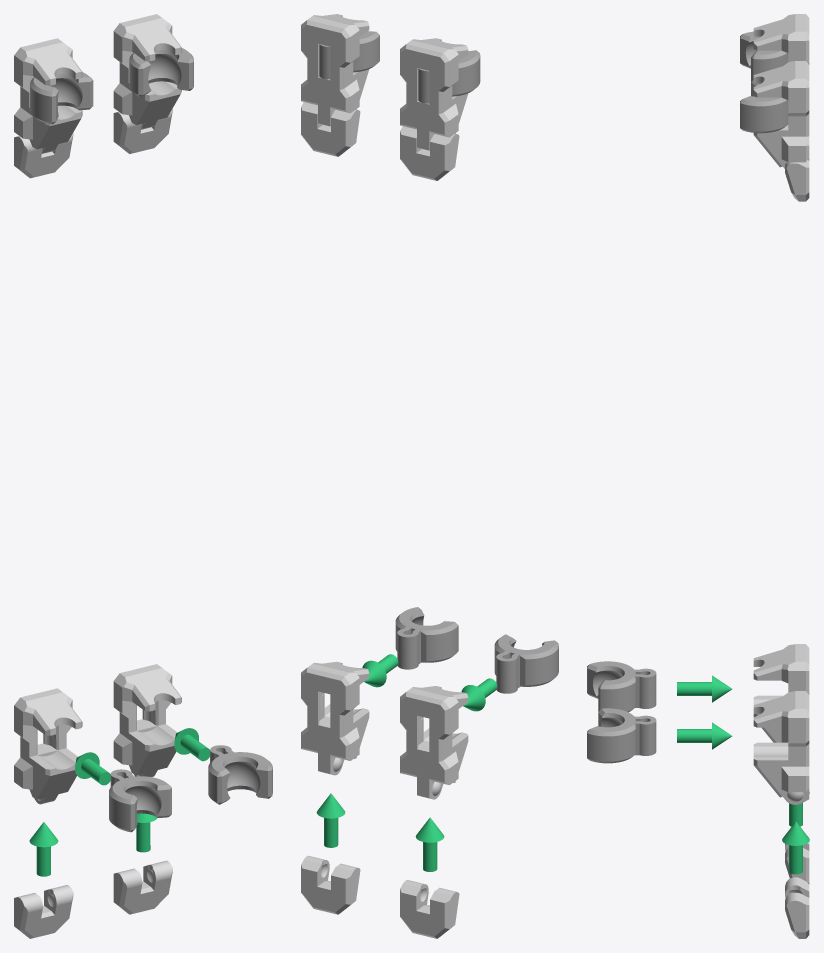
The model's file is feet.glb.
3 views of the same model, side by side, from view 1: azimuth 30°, elevation 25°; view 2: azimuth 150°, elevation 25°; view 3: azimuth 270°, elevation 25° (orthographic). The views are drawn at different scales.
Visible parts, largest first — view 1: Body1.046, Body1.044, Body1.040, Body1.042, Body2.007, Body2.006, Body1.045, Body1.047, Body2.005, Body2.004, Body1.041, Body1.043 (+4 smaller); view 2: Body1.044, Body1.046, Body1.042, Body1.040, Body2.006, Body2.007, Body1.047, Body1.045, Body1.041, Body1.043, Body2.005, Body2.004 (+4 smaller); view 3: Body1.044, Body1.040, Body2.006, Body2.007, Body1.046, Body1.042, Body2.004, Body1.045, Body2.005, Body1.041, Arrow (2), Arrow (1).001 (+1 smaller).
Boxes of the visible parts, x1=… form: Body1.046: x1=14, y1=688, x2=82, y2=804; Body1.044: x1=113, y1=664, x2=181, y2=776; Body1.040: x1=113, y1=14, x2=181, y2=129; Body1.042: x1=14, y1=38, x2=82, y2=153; Body2.007: x1=109, y1=769, x2=171, y2=832; Body2.006: x1=208, y1=745, x2=272, y2=804; Body1.045: x1=113, y1=860, x2=172, y2=914; Body1.047: x1=14, y1=885, x2=73, y2=938; Body2.005: x1=30, y1=72, x2=93, y2=124; Body2.004: x1=129, y1=48, x2=193, y2=96; Body1.041: x1=113, y1=108, x2=172, y2=153; Body1.043: x1=14, y1=132, x2=73, y2=178; Body1.044: x1=301, y1=661, x2=369, y2=775; Body1.046: x1=400, y1=686, x2=468, y2=799; Body1.042: x1=400, y1=38, x2=468, y2=150; Body1.040: x1=301, y1=14, x2=369, y2=126; Body2.006: x1=395, y1=607, x2=458, y2=669; Body2.007: x1=494, y1=634, x2=558, y2=693; Body1.047: x1=400, y1=880, x2=459, y2=938; Body1.045: x1=301, y1=855, x2=360, y2=914; Body1.041: x1=301, y1=102, x2=360, y2=156; Body1.043: x1=400, y1=126, x2=459, y2=180; Body2.005: x1=418, y1=50, x2=480, y2=103; Body2.004: x1=319, y1=31, x2=379, y2=79; Body1.044: x1=753, y1=691, x2=809, y2=804; Body1.040: x1=753, y1=61, x2=809, y2=168; Body2.006: x1=587, y1=708, x2=656, y2=763; Body2.007: x1=587, y1=661, x2=656, y2=712; Body1.046: x1=753, y1=644, x2=809, y2=742; Body1.042: x1=753, y1=14, x2=809, y2=64; Body2.004: x1=740, y1=80, x2=788, y2=133; Body1.045: x1=785, y1=877, x2=809, y2=938; Body2.005: x1=740, y1=31, x2=788, y2=81; Body1.041: x1=785, y1=160, x2=809, y2=201; Arrow (2): x1=782, y1=821, x2=809, y2=874; Arrow (1).001: x1=677, y1=675, x2=732, y2=702.
Bounding box in the file's own units: 24.99 × 137 × 32.04.
